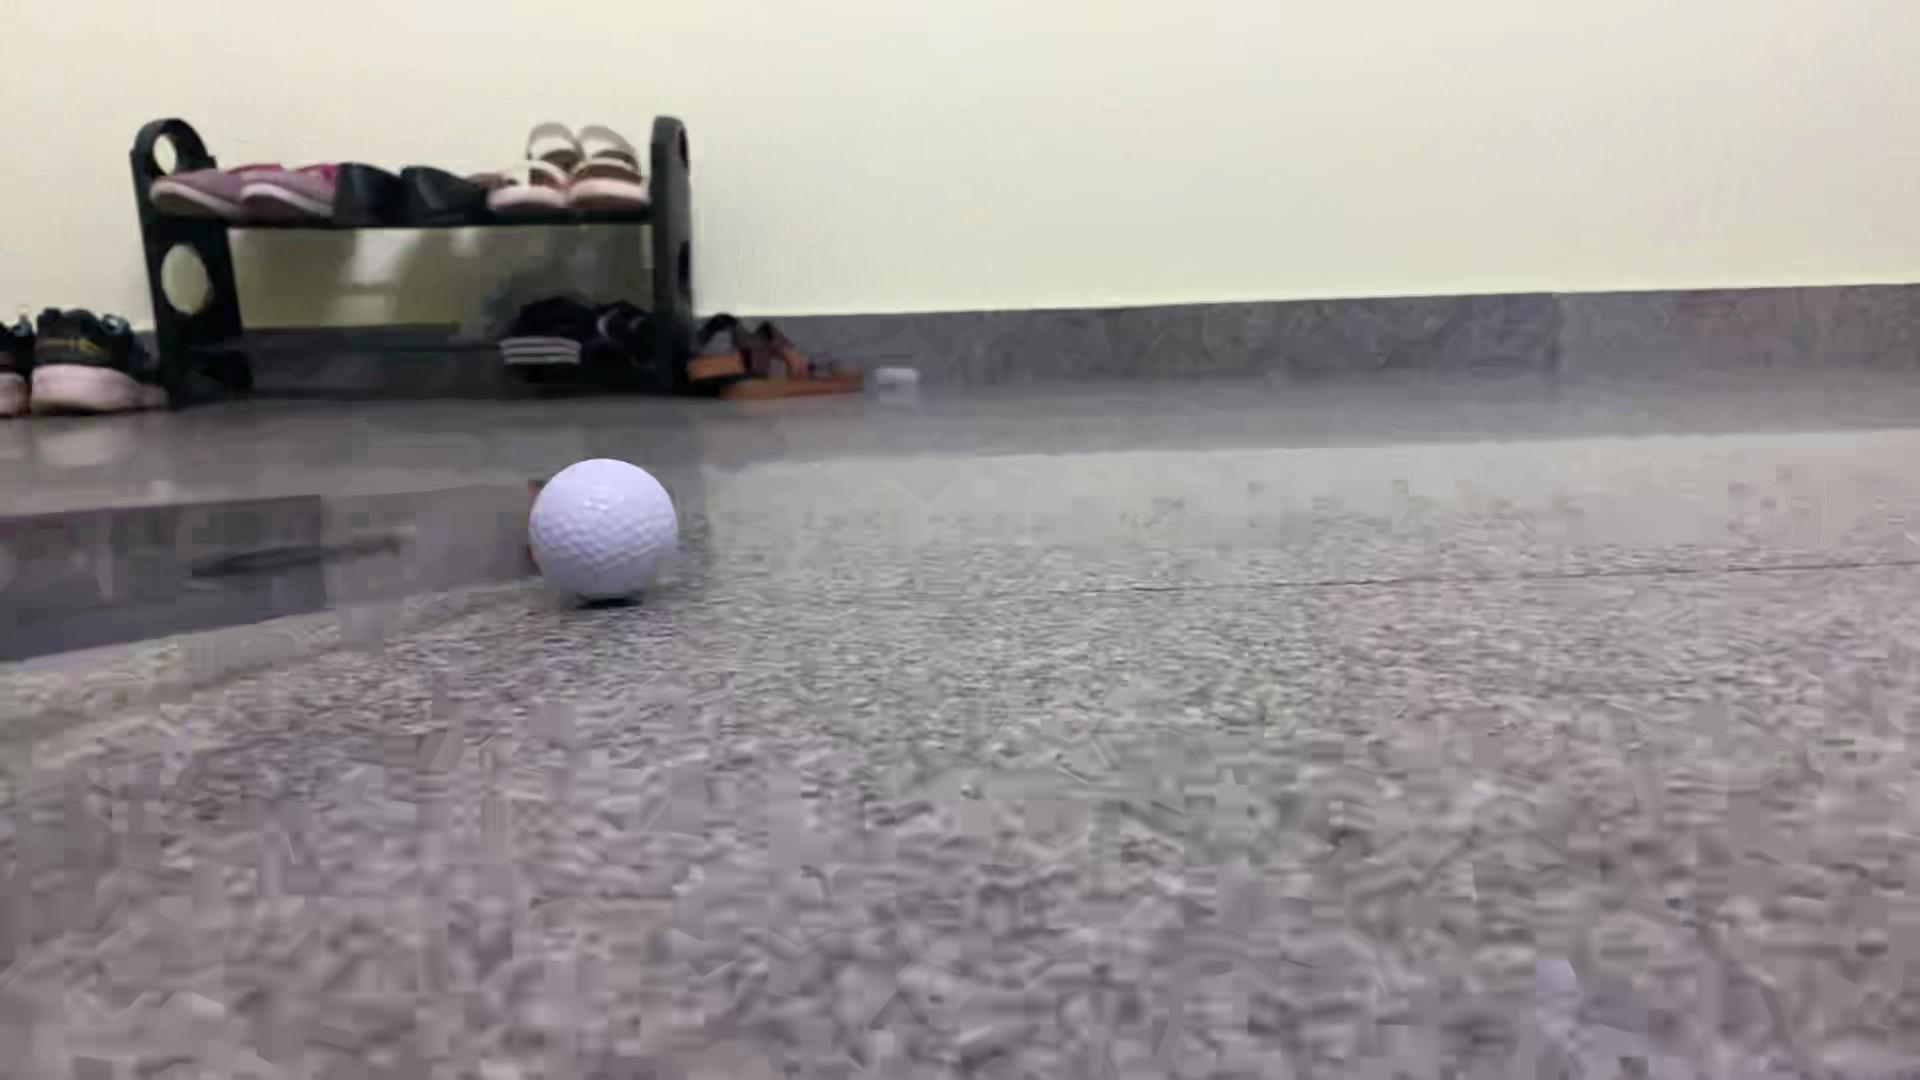golfball: (528, 457, 680, 602)
